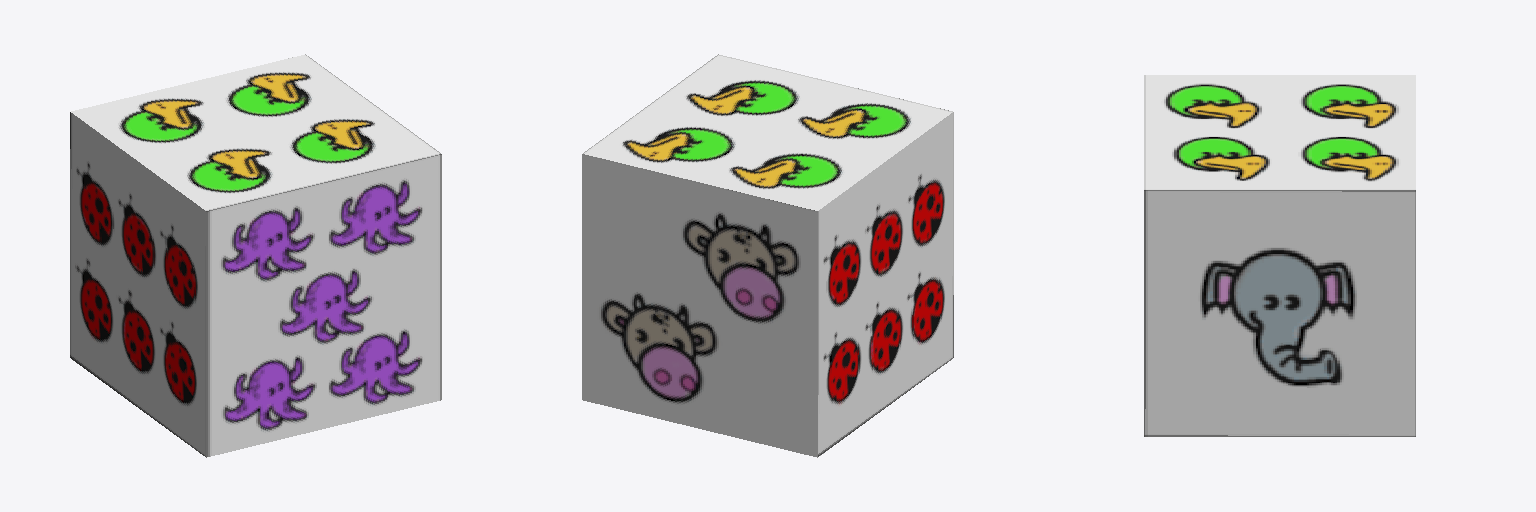
3 renders of one model, left to right at view 1: azimuth 30°, elevation 25°; view 2: azimuth 150°, elevation 25°; view 3: azimuth 270°, elevation 25°, orthographic.
Visible parts, largest first — view 1: Cube; view 2: Cube; view 3: Cube.
Boxes of the visible parts, box(x1,y1,x2,y2) form: Cube: box(70, 54, 441, 457); Cube: box(582, 54, 953, 457); Cube: box(1144, 75, 1415, 436).
Bounding box in the file's own units: 2 × 2 × 2.
1 materials, 1 textured.